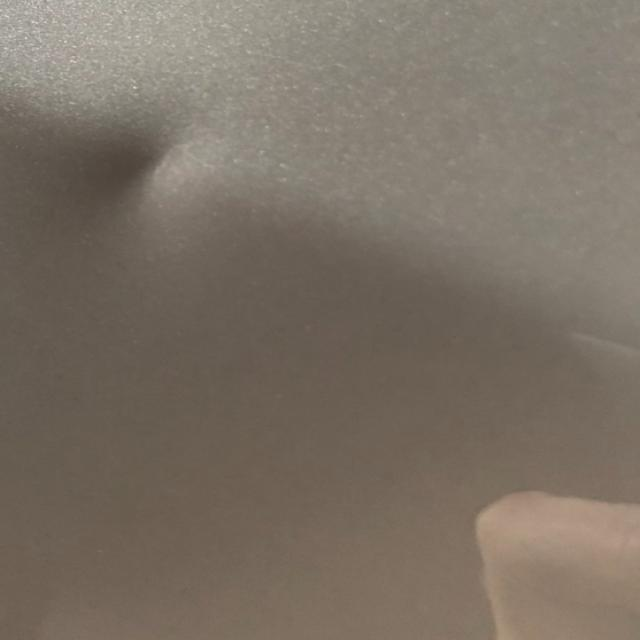dents: (87, 107, 243, 233)
